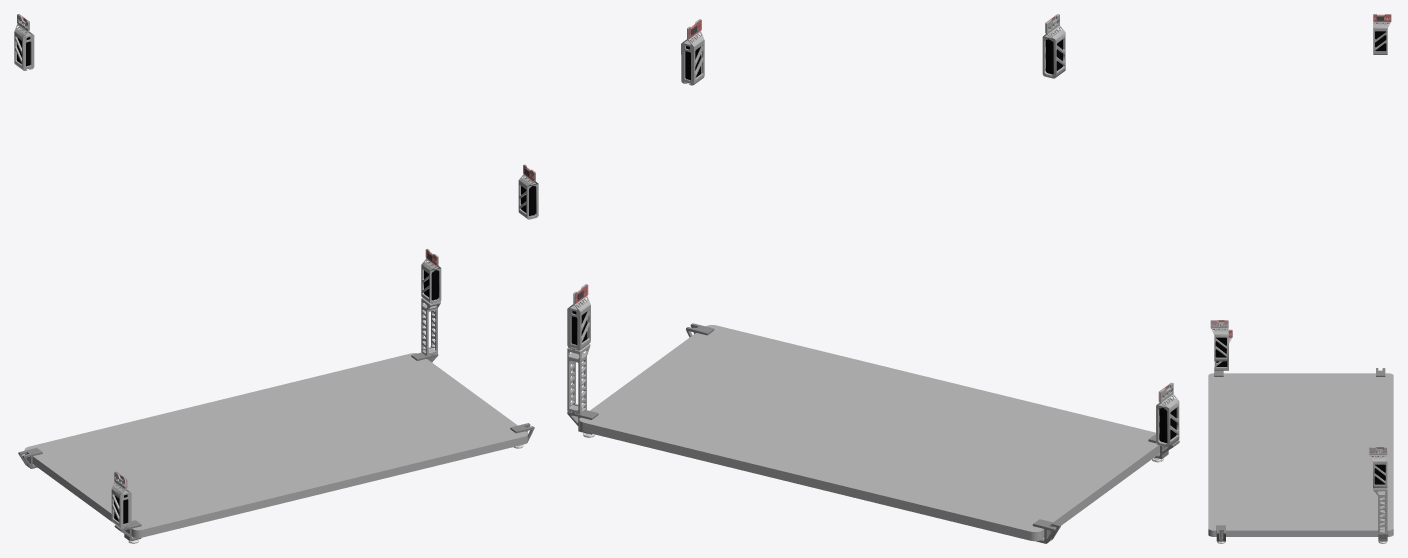
The model's file is rig.glb.
3 renders of one model, left to right at view 1: azimuth 30°, elevation 25°; view 2: azimuth 150°, elevation 25°; view 3: azimuth 270°, elevation 25°, orthographic. The views are drawn at different scales.
Visible parts, largest first — view 1: Table-1; view 2: Table-1; view 3: Table-1.
Part boxes in pixels (bbox=[...]): Table-1: bbox=[14, 14, 538, 543]; Table-1: bbox=[567, 14, 1179, 543]; Table-1: bbox=[1208, 14, 1393, 543].
Size of the model in its own units: 1.61 by 1.66 by 0.7556.
Materials: 2 (2 with a texture image).
